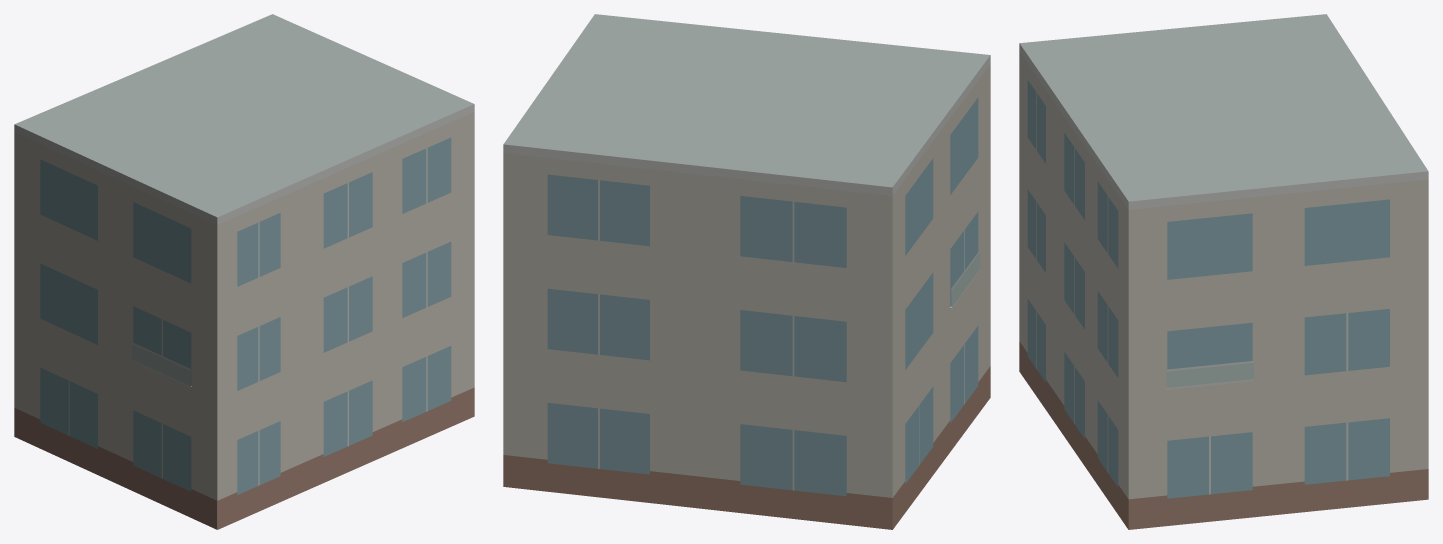
File: survey-upis-32656441.glb
3 renders of one model, left to right at view 1: azimuth 30°, elevation 25°; view 2: azimuth 150°, elevation 25°; view 3: azimuth 270°, elevation 25°, orthographic. The views are drawn at different scales.
Visible parts, largest first — view 1: survey-upis-32656441.tmp; view 2: survey-upis-32656441.tmp; view 3: survey-upis-32656441.tmp.
Boxes of the visible parts, <box> form: survey-upis-32656441.tmp: <box>14,14,474,529</box>; survey-upis-32656441.tmp: <box>503,14,990,529</box>; survey-upis-32656441.tmp: <box>1019,14,1428,529</box>.
Bounding box in the file's own units: 12.02 × 9.8 × 11.08.
